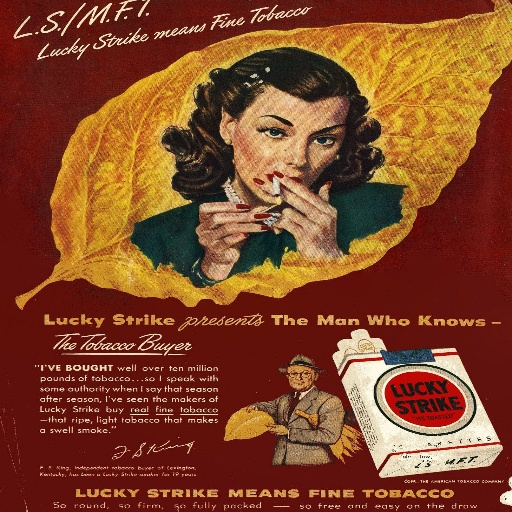hand: (249, 170, 340, 260), (187, 186, 278, 265), (263, 422, 288, 435), (238, 404, 255, 414)
